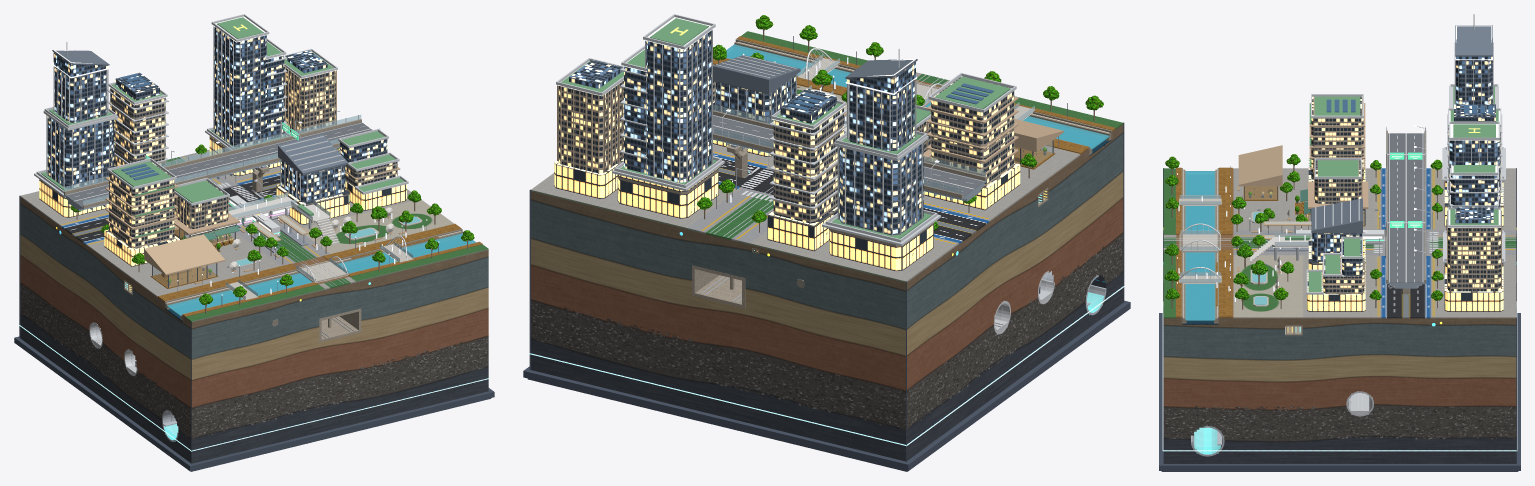
The model's file is urban_cutaway_cube.glb.
The picture shows the model from 3 angles, left to right: view 1: azimuth 30°, elevation 25°; view 2: azimuth 150°, elevation 25°; view 3: azimuth 270°, elevation 25°; orthographic projection. The views are drawn at different scales.
Parts seen in each view (by area): view 1: soil_wall_z_pos, soil_wall_x_neg, l2_bldg_glass, l2_surface_ground, l2_bldg_warm, l2_bldg_fins_alu, l2_bldg_fins_wood, cube_pedestal, l2_bldg_podium, l2_bldg_roof_green, l2_waterfront_wood, l1_viaduct_road (+18 smaller); view 2: soil_wall_z_neg, soil_wall_x_neg, l2_bldg_glass, l2_bldg_warm, l2_surface_ground, l2_bldg_fins_alu, l2_bldg_podium, cube_pedestal, l2_bldg_fins_wood, l2_bldg_roof_green, l2_bldg_roof_metal, l1_viaduct_road (+12 smaller); view 3: soil_wall_x_pos, l2_surface_ground, l2_bldg_warm, l2_bldg_glass, l1_viaduct_road, l2_bldg_fins_alu, cube_pedestal, l2_bldg_fins_wood, l2_bldg_roof_green, l2_canal_water, l2_bldg_podium, l2_bldg_roof_metal (+22 smaller).
Part boxes in pixels (bbox=[...]): soil_wall_z_pos: bbox=[192, 250, 488, 463]; soil_wall_x_neg: bbox=[20, 197, 191, 462]; l2_bldg_glass: bbox=[47, 27, 387, 202]; l2_surface_ground: bbox=[20, 148, 488, 322]; l2_bldg_warm: bbox=[109, 67, 397, 248]; l2_bldg_fins_alu: bbox=[34, 14, 408, 208]; l2_bldg_fins_wood: bbox=[105, 67, 400, 275]; cube_pedestal: bbox=[14, 195, 494, 471]; l2_bldg_podium: bbox=[39, 133, 406, 266]; l2_bldg_roof_green: bbox=[41, 17, 404, 237]; l2_waterfront_wood: bbox=[158, 224, 482, 316]; l1_viaduct_road: bbox=[65, 122, 372, 207]; soil_wall_z_neg: bbox=[531, 191, 905, 461]; soil_wall_x_neg: bbox=[907, 124, 1123, 460]; l2_bldg_glass: bbox=[569, 30, 923, 235]; l2_bldg_warm: bbox=[558, 76, 1014, 223]; l2_surface_ground: bbox=[531, 31, 1123, 282]; l2_bldg_fins_alu: bbox=[556, 14, 1016, 245]; l2_bldg_podium: bbox=[554, 101, 1020, 271]; cube_pedestal: bbox=[523, 122, 1130, 471]; l2_bldg_fins_wood: bbox=[557, 81, 1063, 175]; l2_bldg_roof_green: bbox=[561, 18, 1014, 238]; l2_bldg_roof_metal: bbox=[713, 55, 917, 94]; l1_viaduct_road: bbox=[713, 114, 984, 197]; soil_wall_x_pos: bbox=[1163, 318, 1516, 463]; l2_surface_ground: bbox=[1163, 168, 1516, 324]; l2_bldg_warm: bbox=[1311, 96, 1500, 293]; l2_bldg_glass: bbox=[1312, 56, 1499, 275]; l1_viaduct_road: bbox=[1388, 133, 1424, 282]; l2_bldg_fins_alu: bbox=[1306, 14, 1505, 294]; cube_pedestal: bbox=[1159, 168, 1520, 471]; l2_bldg_fins_wood: bbox=[1238, 103, 1501, 291]; l2_bldg_roof_green: bbox=[1285, 86, 1498, 291]; l2_canal_water: bbox=[1185, 171, 1215, 320]; l2_bldg_podium: bbox=[1307, 157, 1503, 311]; l2_bldg_roof_metal: bbox=[1311, 25, 1492, 232].
Size of the model in its own units: 98.4 by 96.4 by 98.4.
Materials: 129 (30 with a texture image).
